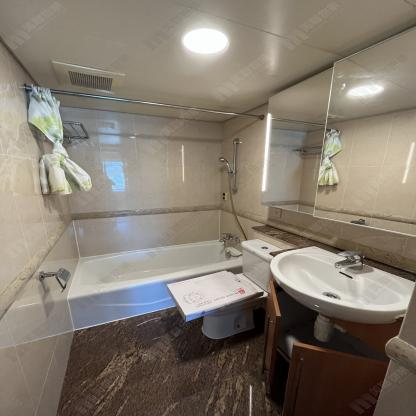Bathtub: (68, 239, 243, 331)
Toilet: (183, 239, 284, 339)
Toilet Sink: (269, 246, 414, 325)
